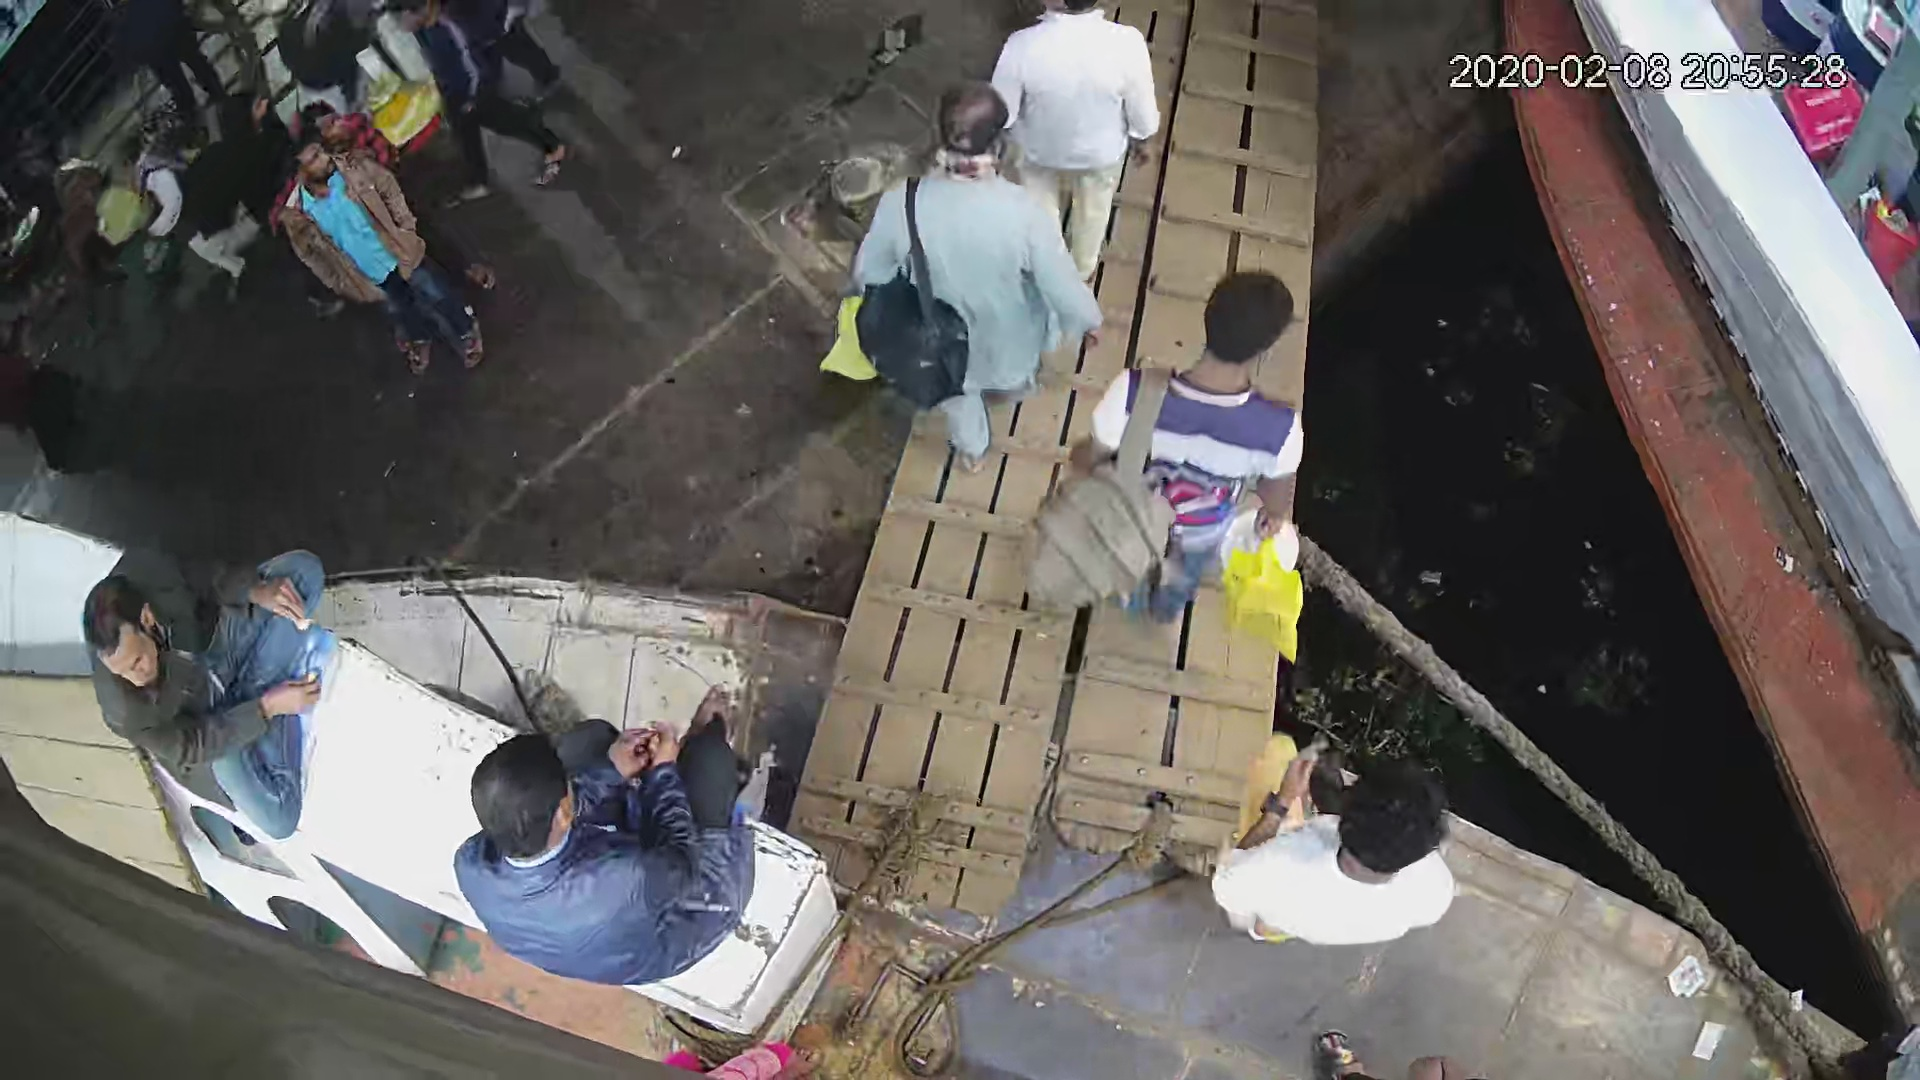person: (449, 674, 762, 990), (858, 81, 1092, 473), (1075, 264, 1307, 628), (77, 539, 330, 840), (1209, 754, 1461, 952), (284, 143, 492, 375), (997, 1, 1181, 222), (391, 1, 567, 201), (118, 138, 257, 300)
